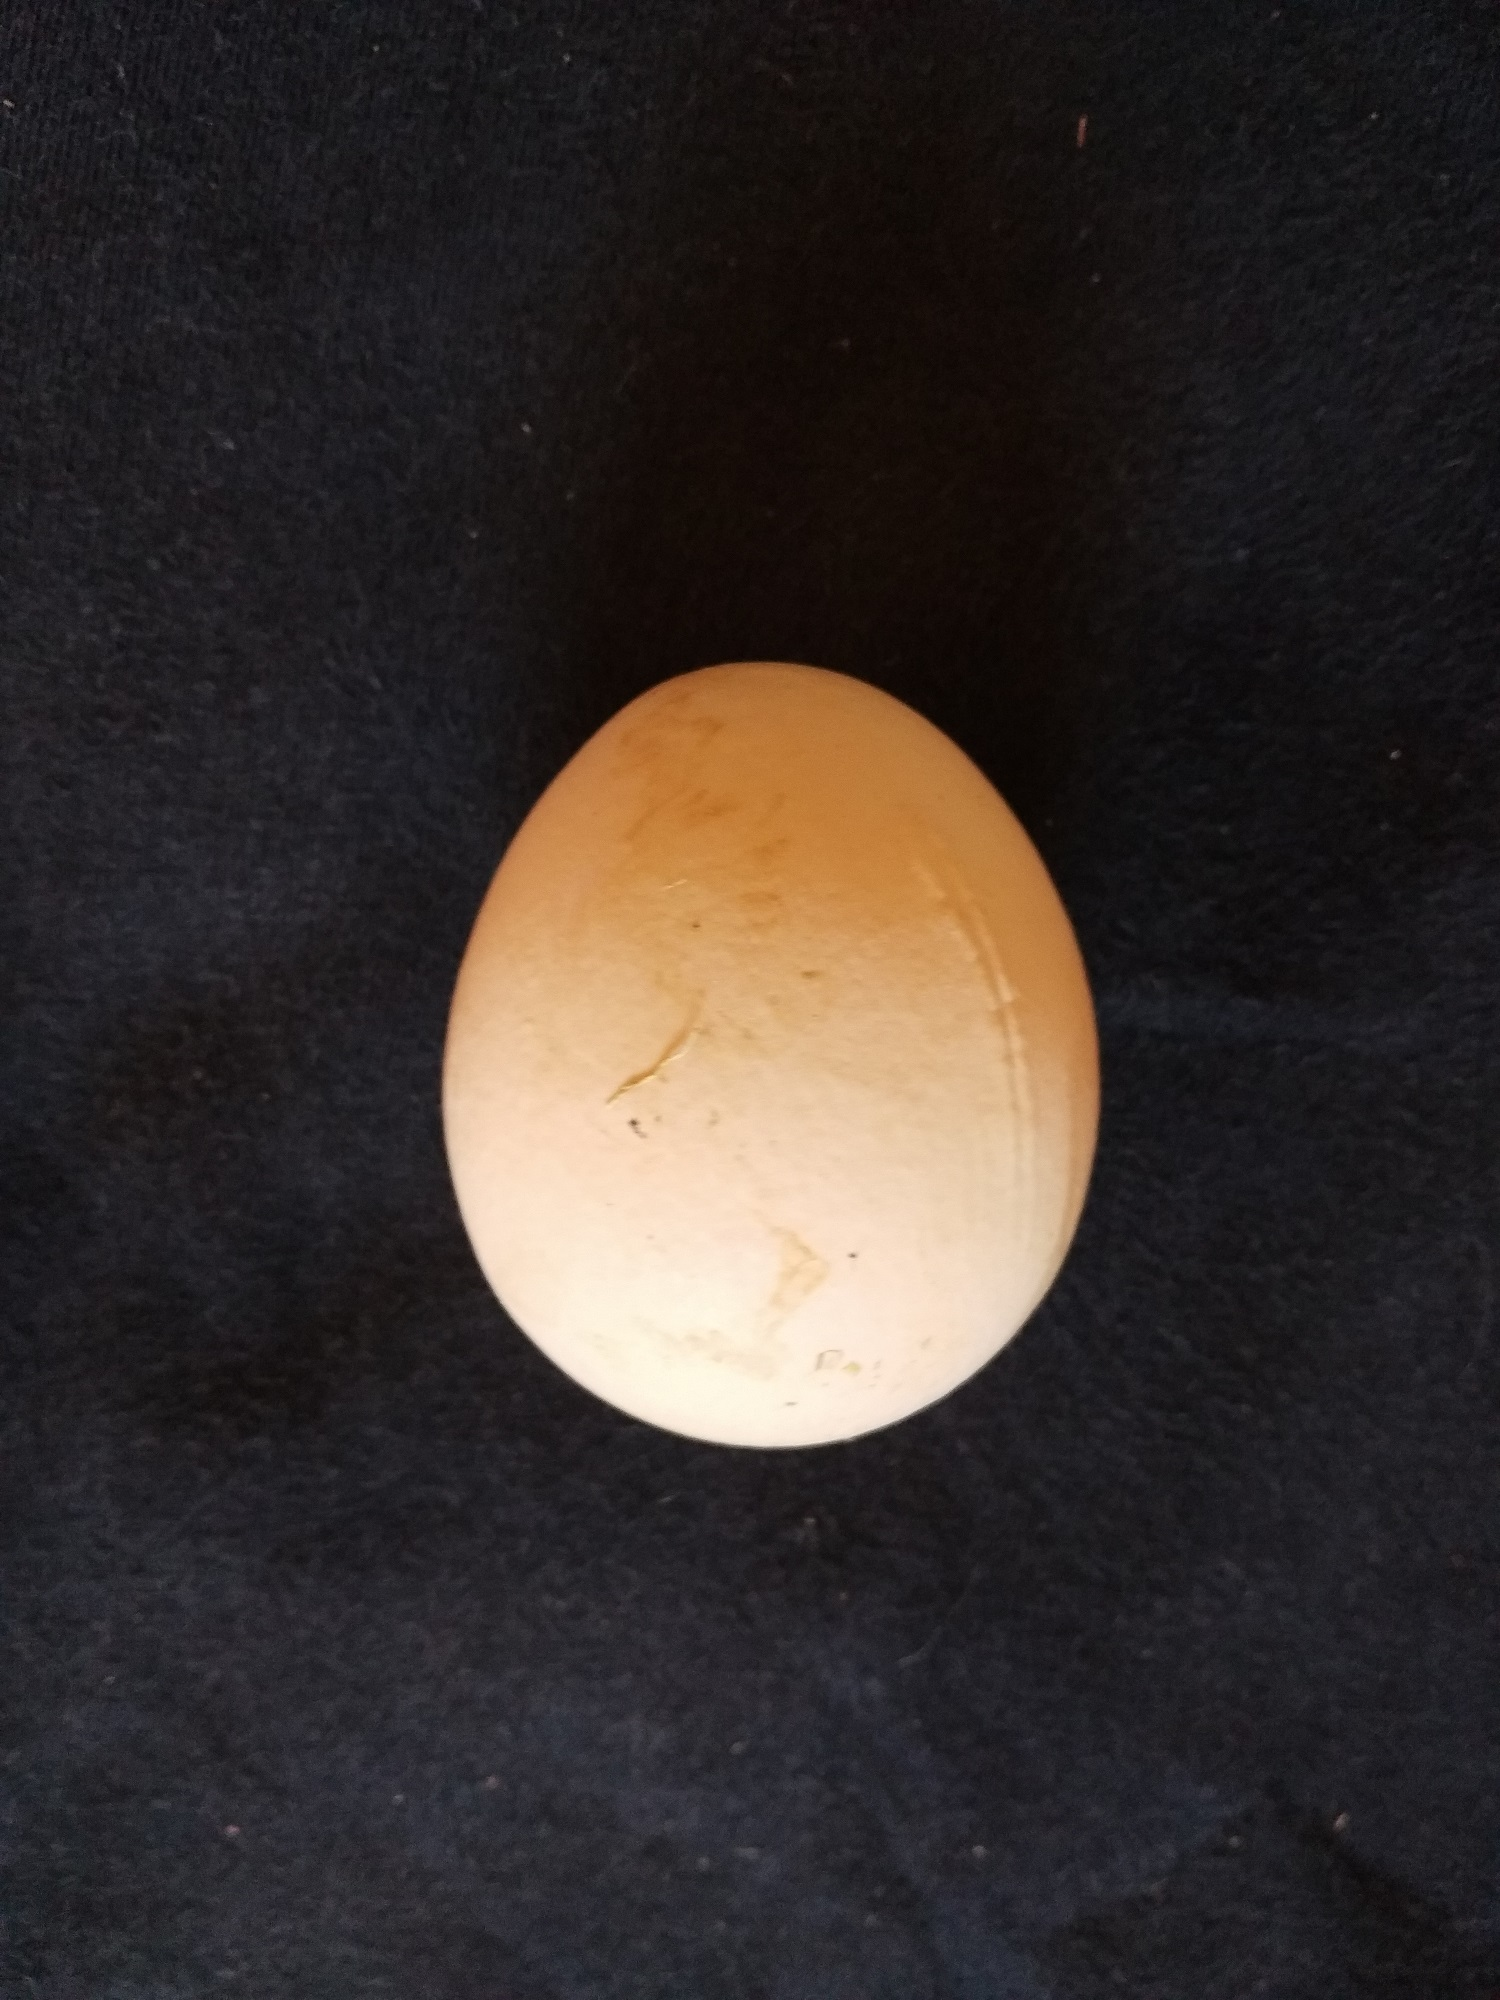Female: (436, 657, 1109, 1465)
